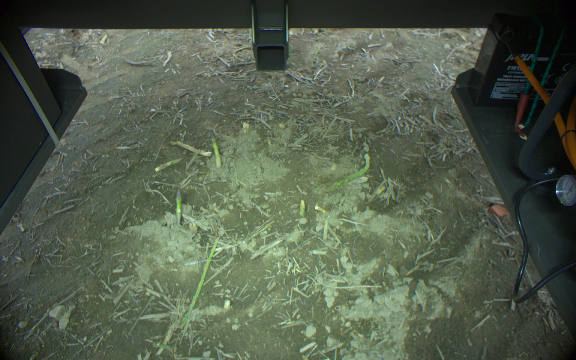aspa: (179, 232, 223, 333), (325, 152, 373, 193), (153, 154, 185, 174), (171, 186, 185, 226), (210, 136, 223, 170), (296, 197, 307, 219), (311, 203, 329, 216)
